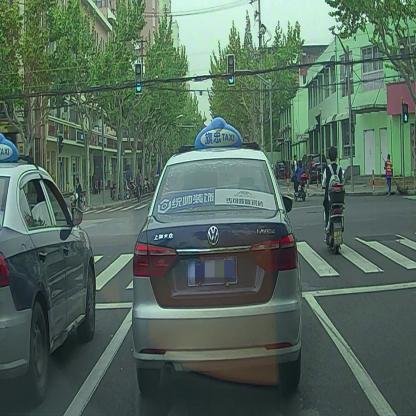Green Light: (226, 55, 234, 86), (135, 62, 142, 93)
